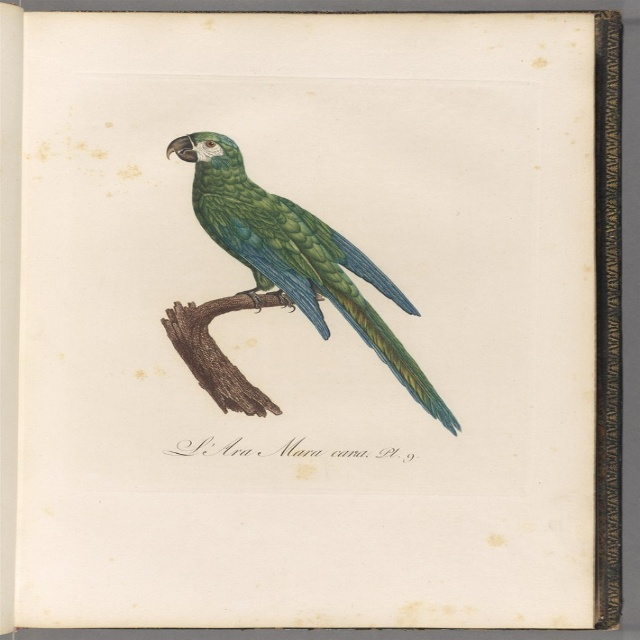Parrot: (164, 128, 466, 432)
